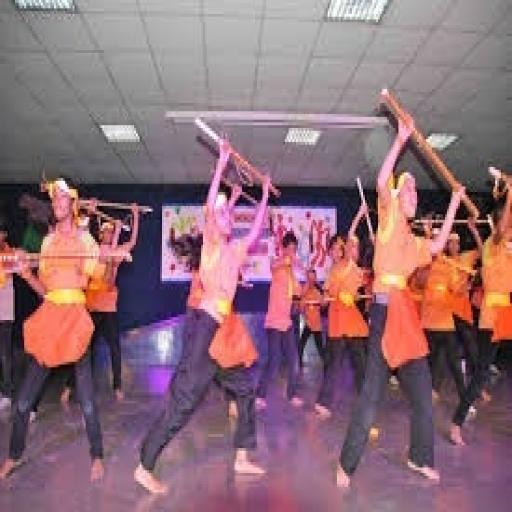dancing: (332, 100, 470, 495), (132, 134, 279, 498)
